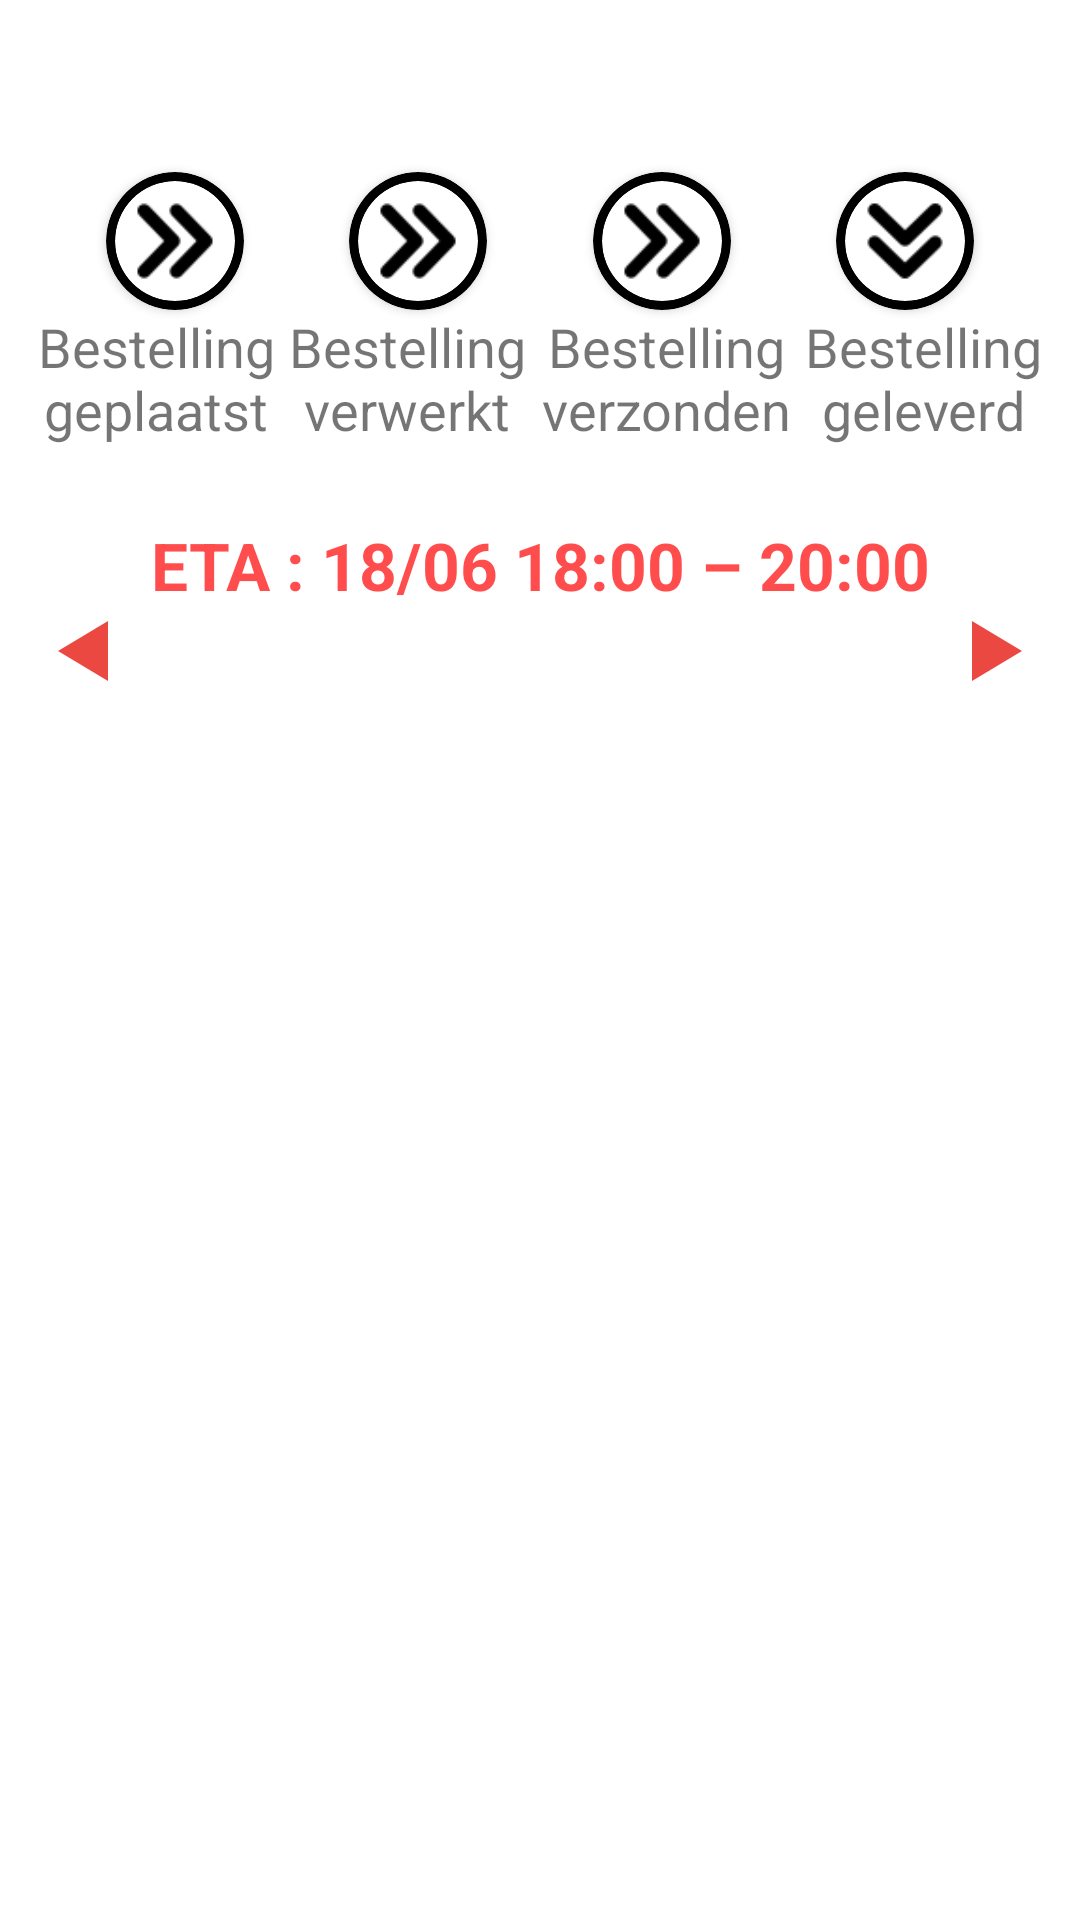

Icons on this 1080px x 1920px Android screen, each with its box as (x1, y1, x2, y2):
left indicator: (58, 621, 108, 681)
right indicator: (972, 621, 1022, 681)
